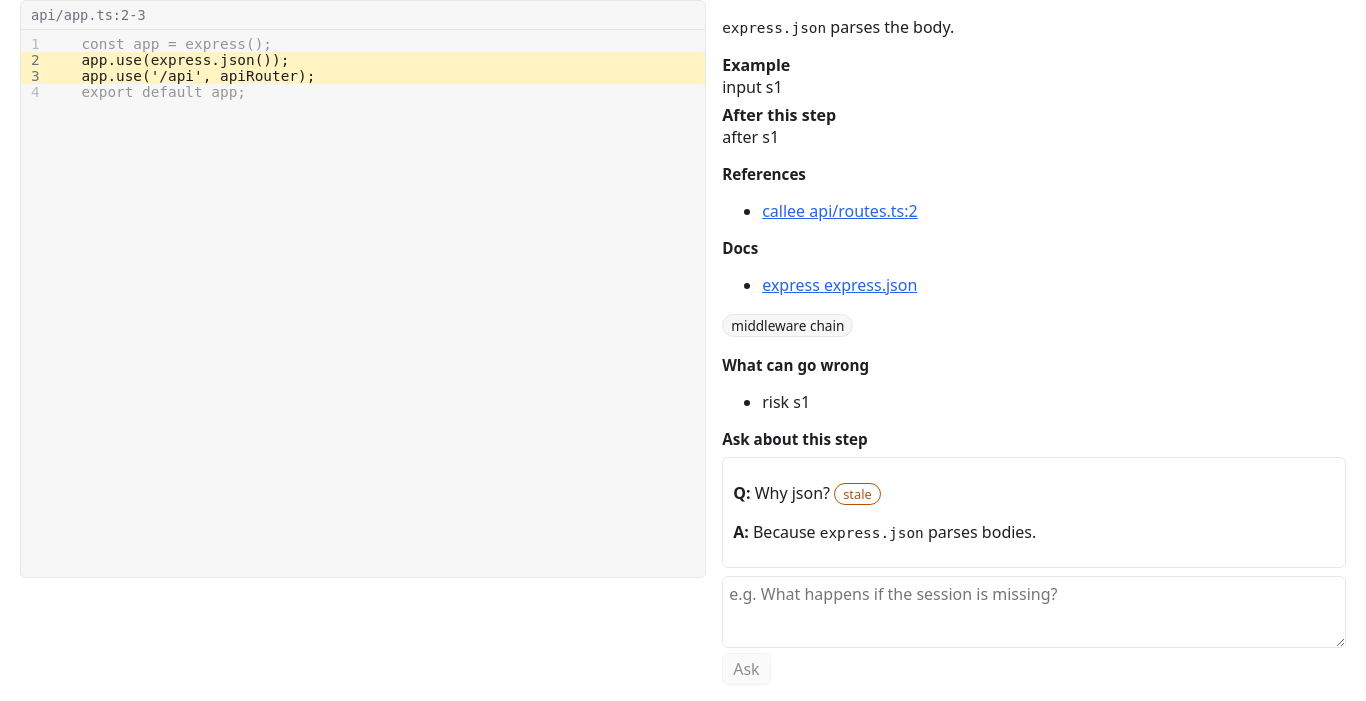
Test: questions › asks about the current step and shows the verified answer with its warnings (Phase 6 acceptance)
The width and height of the screenshot is (1366, 701).
(page scrolled)
Type "What does it parse?" into the text box named "Question".
click(1034, 612); type("What does it parse?")  # box x1=722 y1=576 x2=1346 y2=648
(page scrolled)
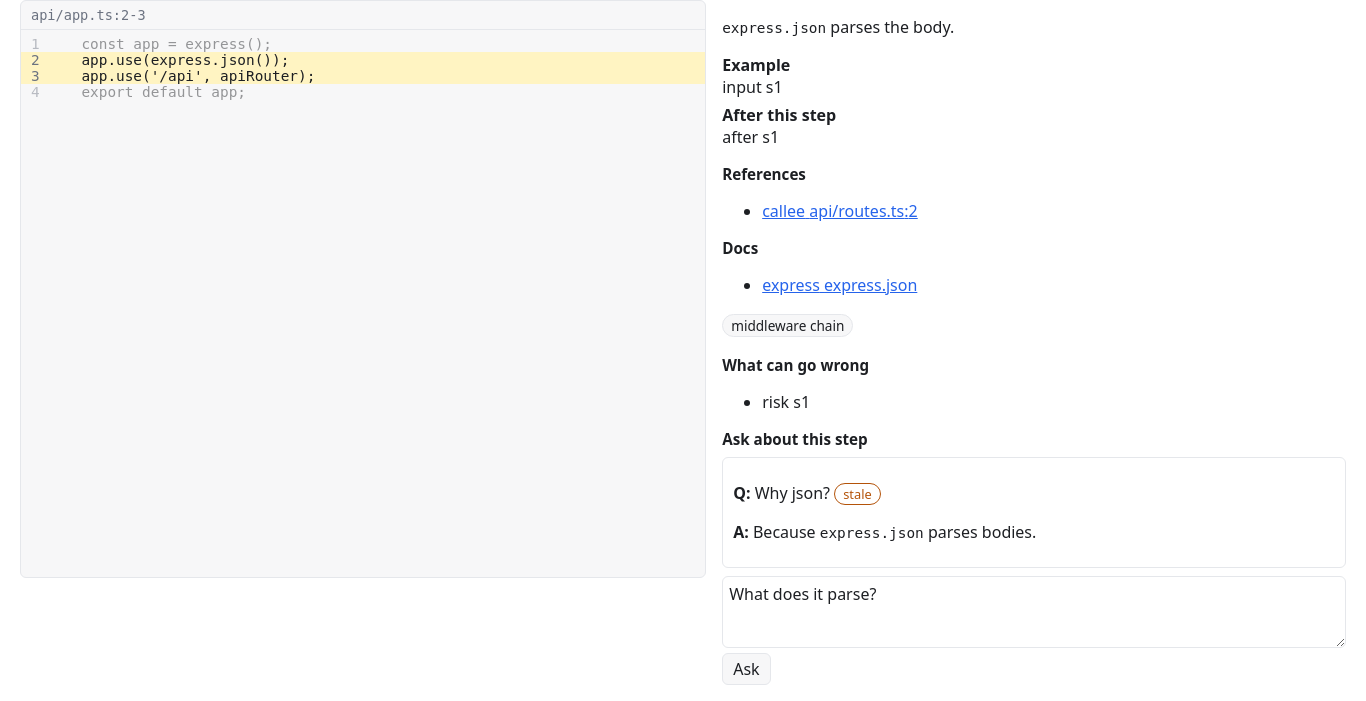
Click the button "Ask".
click(746, 669)  # box x1=722 y1=653 x2=771 y2=685
(page scrolled)
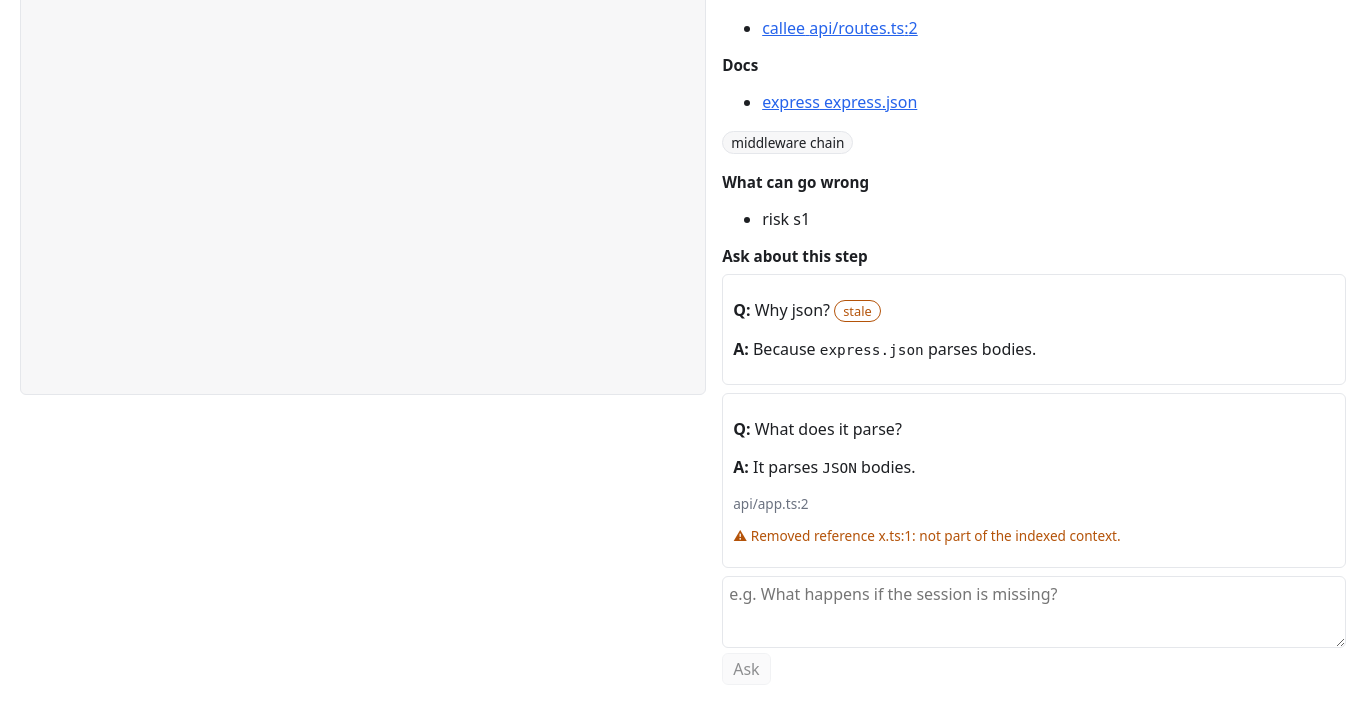
Check: the text "JSON" is shown, box x1=822 y1=460 x2=857 y2=476
Check: the text "api/app.ts:2" is shown, box x1=733 y1=494 x2=809 y2=513
Check: the text "⚠ Removed reference x.ts:1: not part of the indexed context." is shown, box x1=733 y1=526 x2=1121 y2=546
